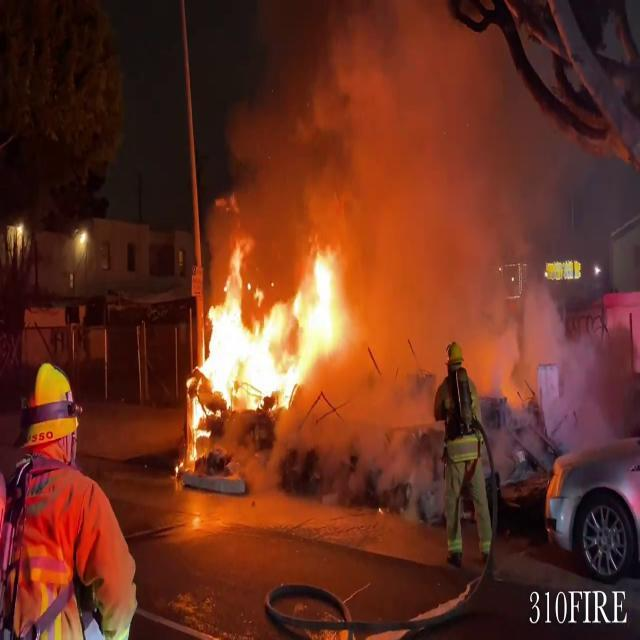Fire: (184, 232, 348, 464)
Smoke: (341, 0, 587, 434), (201, 0, 596, 245)
